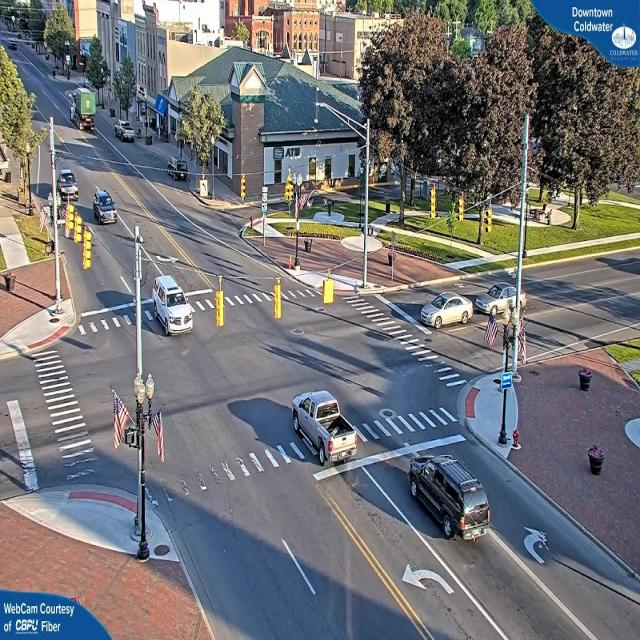car: (408, 457, 492, 545), (291, 391, 355, 468), (151, 276, 193, 336), (420, 286, 472, 331), (472, 279, 528, 316), (94, 189, 117, 225), (58, 168, 79, 200), (164, 156, 189, 180), (116, 121, 138, 142)
